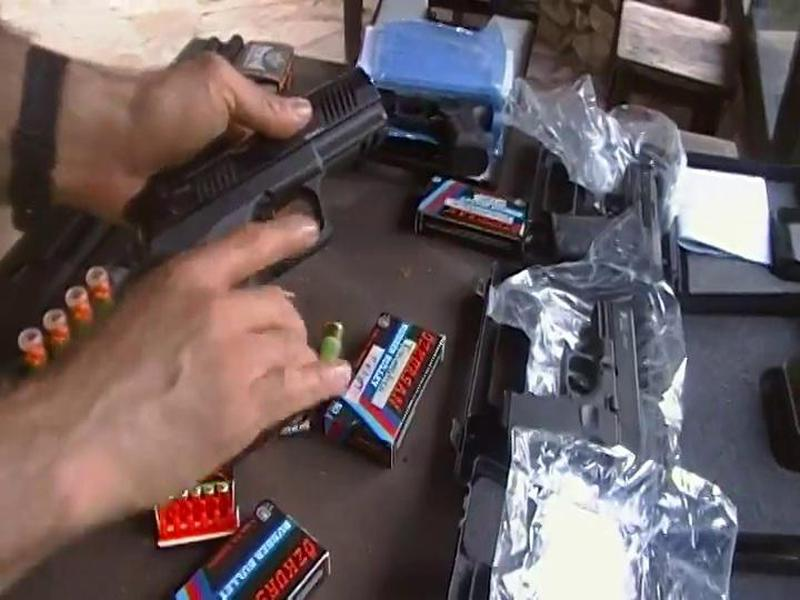Pistola: (119, 46, 404, 341)
